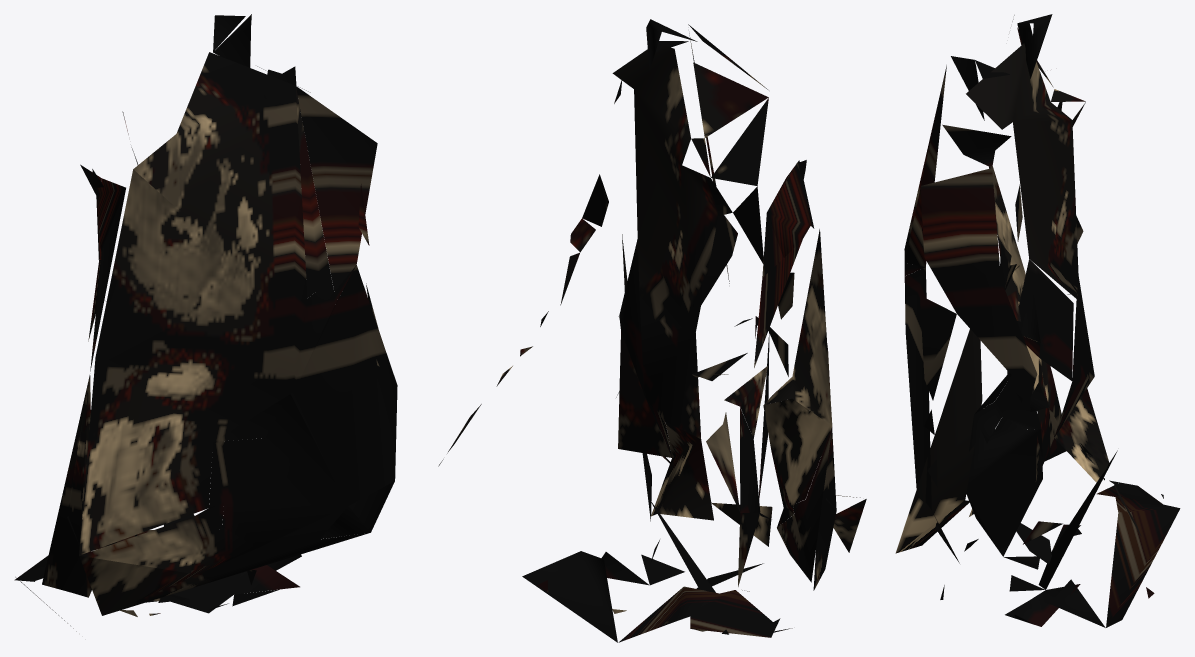
The picture shows the model from 3 angles, left to right: view 1: azimuth 30°, elevation 25°; view 2: azimuth 150°, elevation 25°; view 3: azimuth 270°, elevation 25°; orthographic projection. The views are drawn at different scales.
Visible parts, largest first — view 1: body.002; view 2: body.002; view 3: body.002.
Boxes of the visible parts, <box> form: body.002: <box>14,14,397,631</box>; body.002: <box>438,19,866,642</box>; body.002: <box>895,14,1180,627</box>.
Bounding box in the file's own units: 1.24 × 2.04 × 0.866.
1 material, 1 textured.
